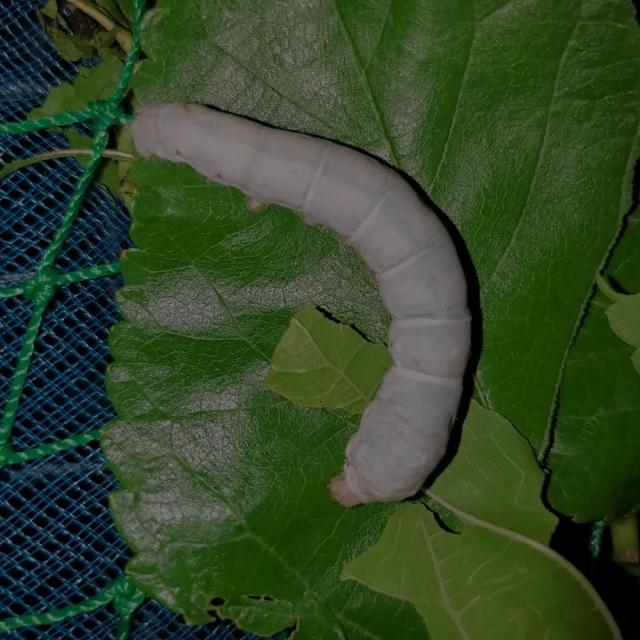Healthy: (117, 88, 494, 519)
